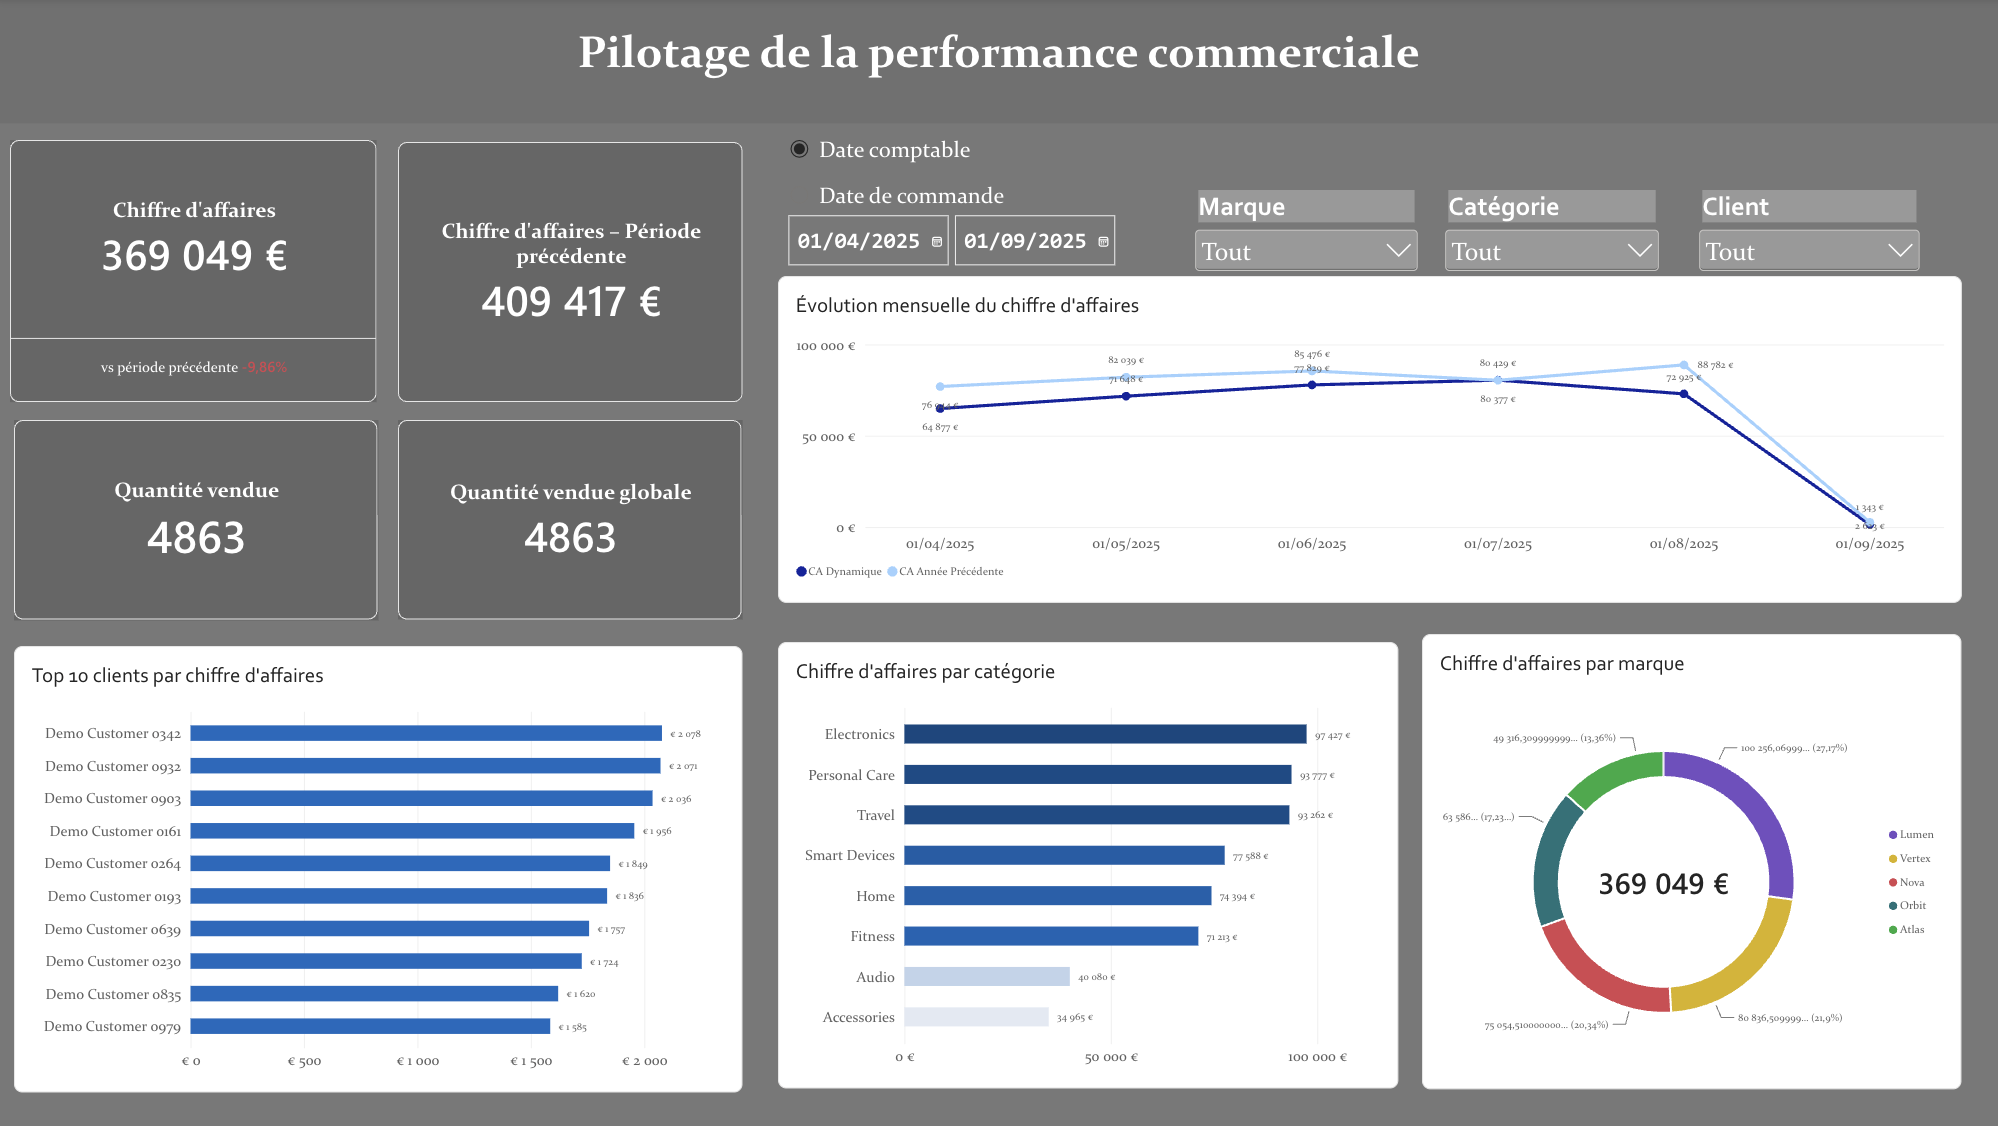

What the dashboard file says about the page in this screenshot:
{"tool":"powerbi","page":{"name":"第 1 页","canvas":[1920,1080],"ordinal":0},"visuals":[{"type":"cardVisual","fields":{"Data":["Bridge_Product_Category.CA Dynamique"]},"box":[14.3,136.7,351,251],"z":0},{"type":"cardVisual","fields":{"Data":["Sum(Fact_Sales.Quantity)"]},"box":[16.3,404.1,349,191.8],"z":1000},{"type":"donutChart","title":"Chiffre d''affaires par marque","fields":{"Category":["Dim_Product.Brand"],"Y":["Bridge_Product_Category.CA Dynamique"]},"box":[1366.1,608.4,516.6,436.2],"z":2000},{"type":"slicer","title":"Période d''analyse","fields":{"Values":["Dim_Date.Date"]},"box":[750,202.1,393.2,91.8],"z":3000},{"type":"cardVisual","fields":{"Data":["Bridge_Product_Category.CA P-1 Dynamique"]},"box":[384.6,137.8,330,249.7],"z":4000},{"type":"slicer","fields":{"Values":["Type_Date.Type"]},"box":[750,122.9,308.3,88.3],"z":5000},{"type":"clusteredBarChart","title":"Top 10 clients par chiffre d''affaires","fields":{"Category":["Dim_Customer.Customer_Name"],"Y":["Bridge_Product_Category.CA Dynamique"]},"box":[17.2,619.9,697.4,427.6],"z":6000},{"type":"lineChart","title":"Évolution mensuelle du chiffre d''affaires","fields":{"Category":["Dim_Date.Year_Month"],"Y":["Bridge_Product_Category.CA Dynamique","Bridge_Product_Category.CA Année Précédente"]},"box":[749.1,266.9,1133.6,312.8],"z":7000},{"type":"clusteredBarChart","title":"Chiffre d''affaires par catégorie","fields":{"Category":["Dim_Category.Category_Name"],"Y":["Bridge_Product_Category.CA par catégorie"]},"box":[749.1,617,594.1,427.6],"z":8000},{"type":"textbox","box":[481.7,336.7,155,13.3],"z":9000},{"type":"textbox","box":[0,0,1920,120],"z":10000},{"type":"cardVisual","fields":{"Data":["Bridge_Product_Category.Quantité Globale"]},"box":[384.2,403.5,329.8,191.2],"z":12000},{"type":"slicer","fields":{"Values":["Dim_Product.Brand"]},"box":[1143.8,183.3,222.9,110.4],"z":12001},{"type":"slicer","fields":{"Values":["Dim_Category.Category_Name"]},"box":[1383.3,183.3,214.6,93.8],"z":12002},{"type":"slicer","fields":{"Values":["Dim_Customer.Customer_Name"]},"box":[1625,183.3,220.8,93.8],"z":12003}]}

Visuals, with their boxes in screenshot pixels (x1, y1, x2, y2), scaled from the page's 1920x1080 canvas onto the 1998x1126 screenshot:
cardVisual - Bridge_Product_Category.CA Dynamique: detection(15, 143, 380, 404)
cardVisual - Sum(Fact_Sales.Quantity): detection(17, 421, 380, 621)
"Chiffre d''affaires par marque" donutChart: detection(1422, 634, 1959, 1089)
"Période d''analyse" slicer: detection(780, 211, 1190, 306)
cardVisual - Bridge_Product_Category.CA P-1 Dynamique: detection(400, 144, 744, 404)
slicer - Type_Date.Type: detection(780, 128, 1101, 220)
"Top 10 clients par chiffre d''affaires" clusteredBarChart: detection(18, 646, 744, 1092)
"Évolution mensuelle du chiffre d''affaires" lineChart: detection(780, 278, 1959, 604)
"Chiffre d''affaires par catégorie" clusteredBarChart: detection(780, 643, 1398, 1089)
textbox: detection(501, 351, 663, 365)
textbox: detection(0, 0, 1997, 125)
cardVisual - Bridge_Product_Category.Quantité Globale: detection(400, 421, 743, 620)
slicer - Dim_Product.Brand: detection(1190, 191, 1422, 306)
slicer - Dim_Category.Category_Name: detection(1439, 191, 1663, 289)
slicer - Dim_Customer.Customer_Name: detection(1691, 191, 1921, 289)
